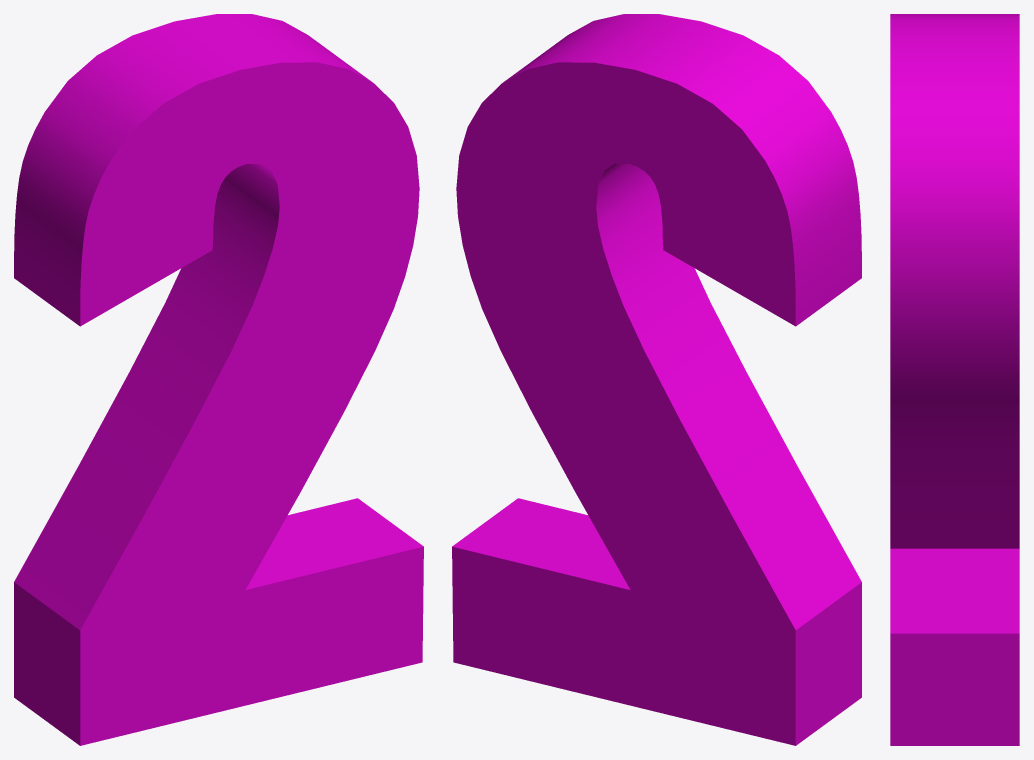
The model's file is two.fbx.
3 views of the same model, side by side, from view 1: azimuth 30°, elevation 25°; view 2: azimuth 150°, elevation 25°; view 3: azimuth 270°, elevation 25° (orthographic). The views are drawn at different scales.
Visible parts, largest first — view 1: typeMesh1; view 2: typeMesh1; view 3: typeMesh1.
Boxes of the visible parts, x1,y1,x2,y2 form: typeMesh1: (14, 14, 423, 745); typeMesh1: (452, 14, 861, 745); typeMesh1: (890, 14, 1019, 745).
Size of the model in its own units: 37.5 by 66.39 by 12.5.
